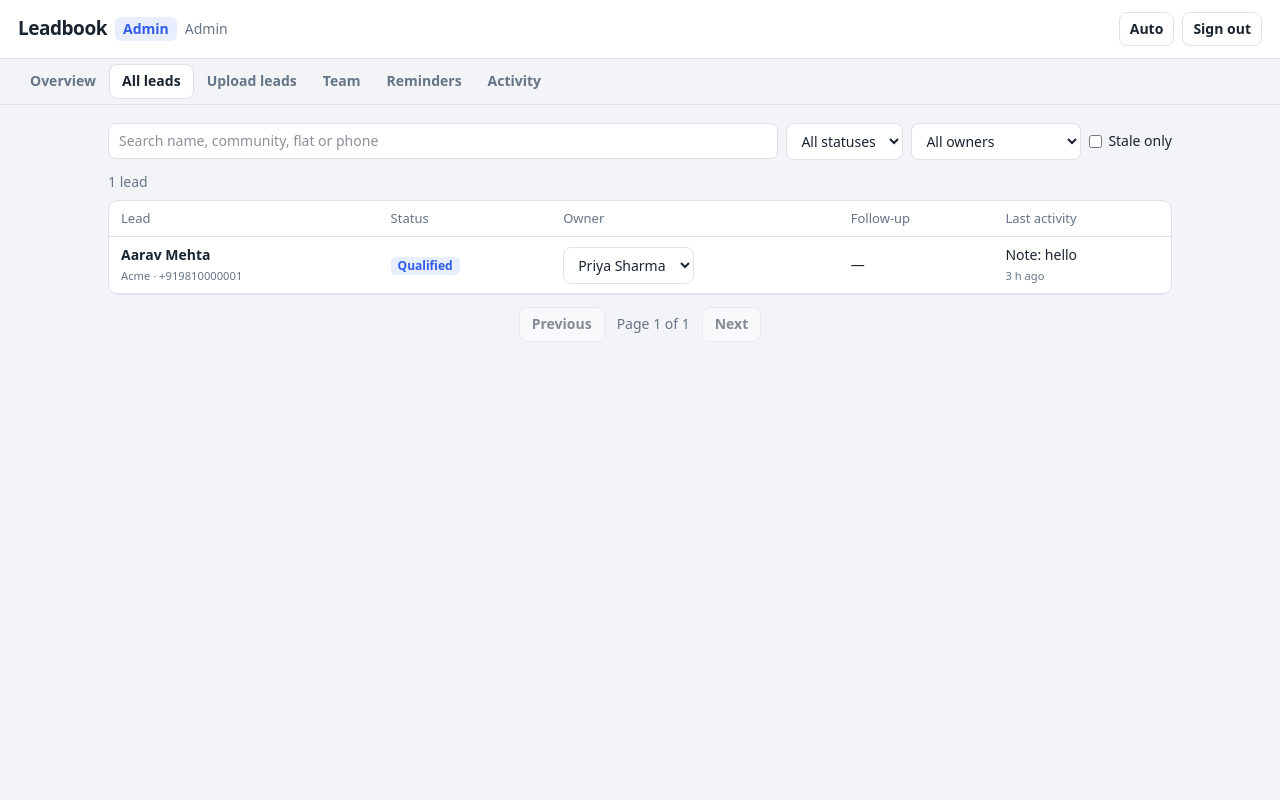
Test: All leads (7.2) and the read-only drawer (7.3) › shows the customer details the employee collected, read-only
The width and height of the screenshot is (1280, 800).
Click the button "Aarav Mehta".
click(166, 255)  # box [121,245,210,265]
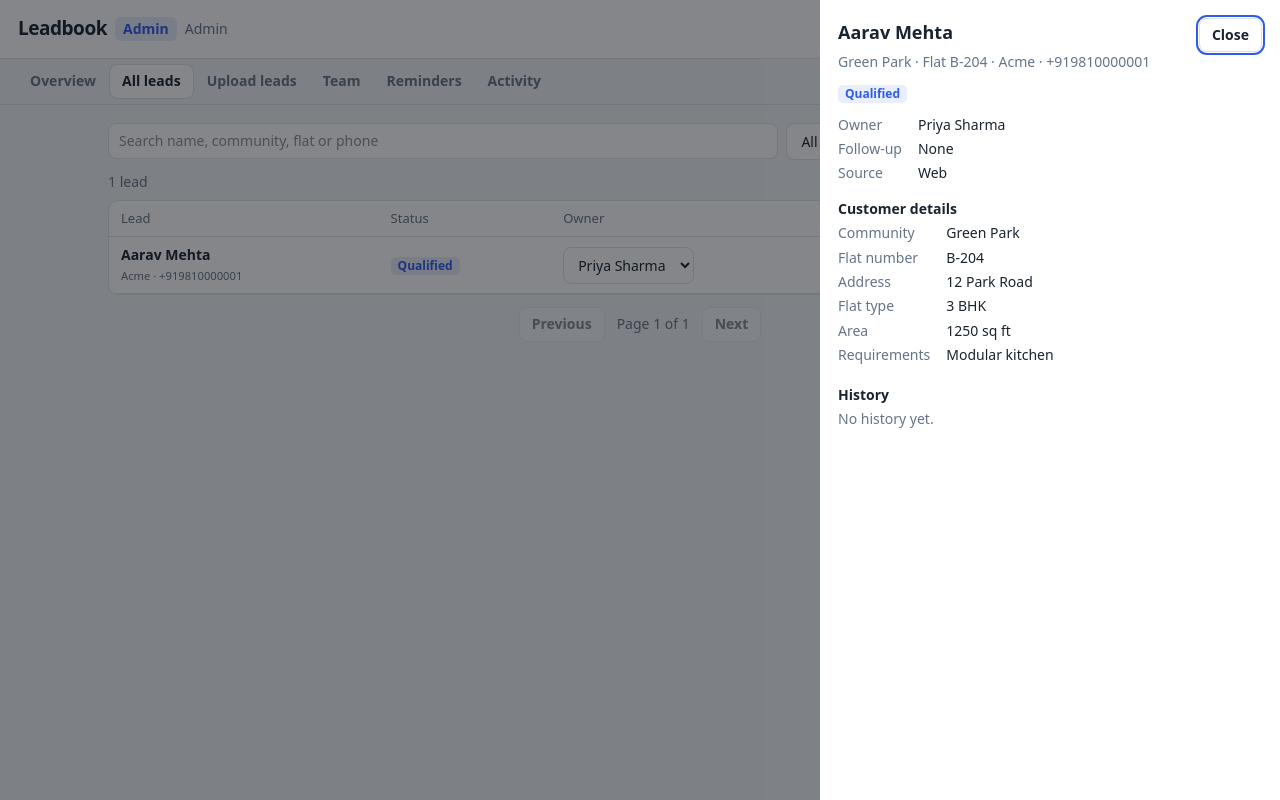
Check: the text "Green Park" is shown, box [946,224,1020,242]
Check: the text "B-204" is shown, box [946,248,984,267]
Check: the text "12 Park Road" is shown, box [946,272,1033,291]
